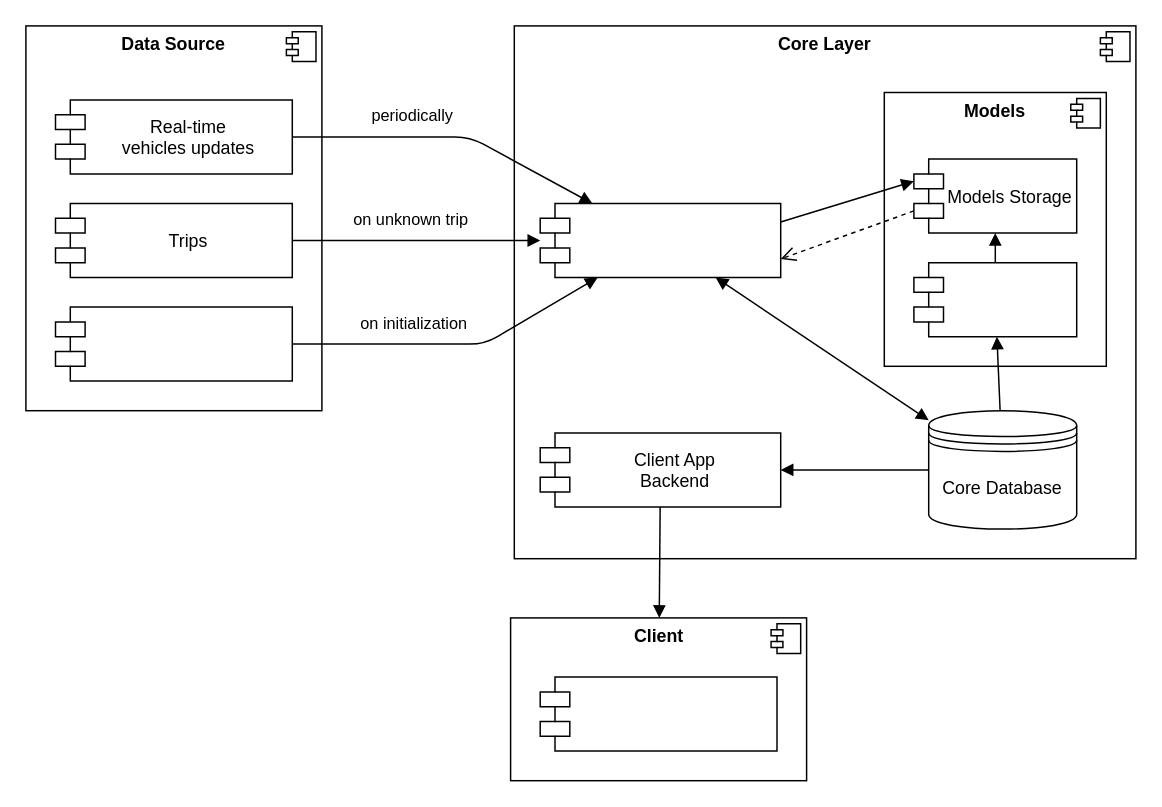
Some shapes in this 1162 by 807 pixel diagram are drawn without their labels. Each missing label, with the centre of its shape:
"Client Web App" belongs at (x=658, y=713).
"Data Preprocessing" belongs at (x=660, y=240).
"Models Builder" belongs at (x=994, y=299).
"Stops" belongs at (x=173, y=343).
